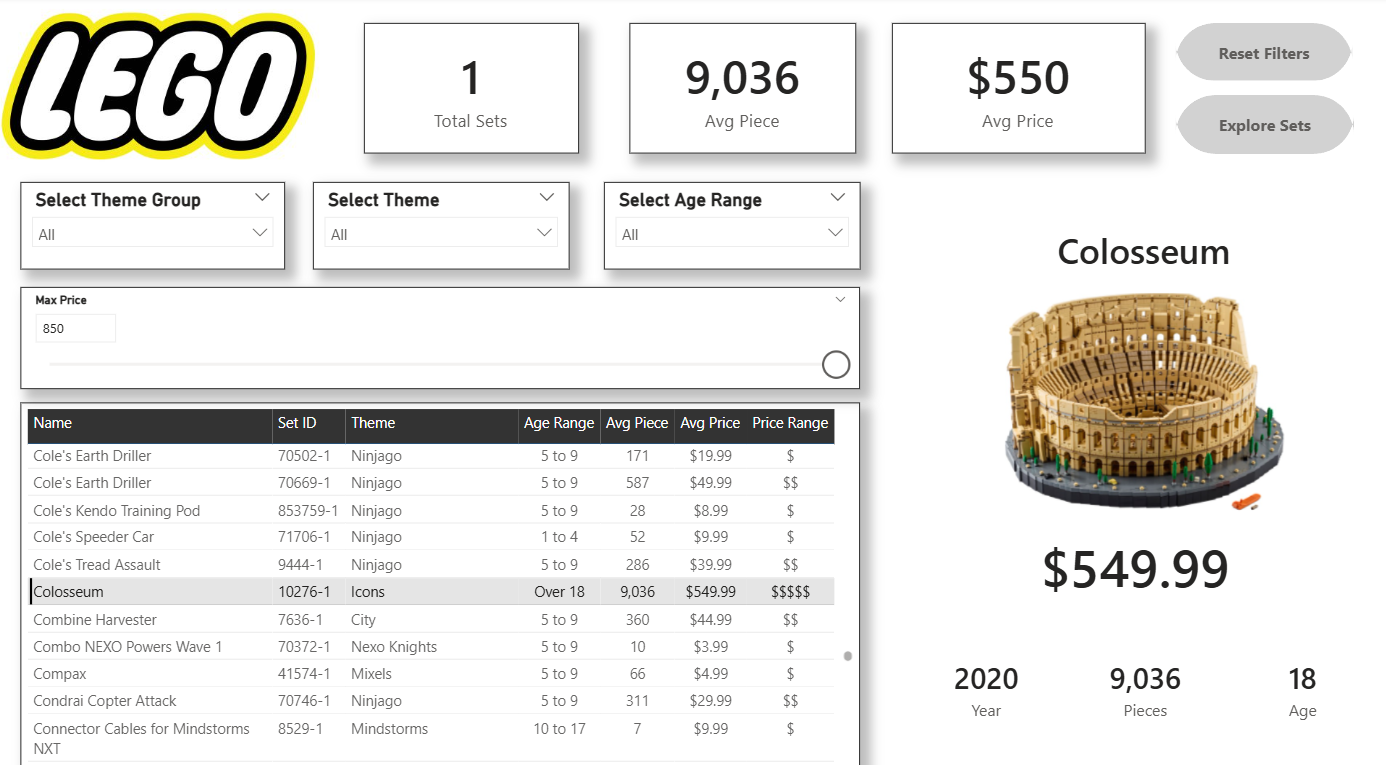

Layout of this report page (visuals, bound fields, positions):
{"tool":"powerbi","page":{"name":"LEGO Set Finder","canvas":[1280,720],"ordinal":0},"visuals":[{"type":"cardVisual","fields":{"Data":["Measure Table.Total Sets"]},"box":[338.2,24.8,196.8,119.5],"z":0},{"type":"image","box":[0,0,299.2,170.2],"z":1000},{"type":"cardVisual","fields":{"Data":["Measure Table.Avg Piece"]},"box":[580.2,24.8,207,119.5],"z":2000},{"type":"cardVisual","fields":{"Data":["Measure Table.Avg Price"]},"box":[820.8,24.8,231.8,119.5],"z":3000},{"type":"slicer","fields":{"Values":["lego_sets.themeGroup"]},"box":[23.3,170.6,242,80.2],"z":4000},{"type":"slicer","fields":{"Values":["lego_sets.Age Range"]},"box":[556.9,170.6,234.7,80.2],"z":5000},{"type":"slicer","fields":{"Values":["lego_sets.theme"]},"box":[291.6,170.6,234.7,80.2],"z":6000},{"type":"tableEx","fields":{"Values":["lego_sets.name","lego_sets.set_id","lego_sets.theme","lego_sets.Age Range","Measure Table.Avg Piece","Measure Table.Avg Price","lego_sets.Price Range"]},"box":[22.7,372.5,767.7,346.8],"z":7000},{"type":"cardVisual","fields":{"Data":["Measure Table.Selected Set"]},"box":[838.9,196.8,425.5,69.7],"z":8000},{"type":"simpleImageEBC4593F96F1425FB3D84C5BF02B5075","fields":{"imageURL":["lego_sets.imageURL"]},"box":[838.9,266.5,425.5,209],"z":9000},{"type":"cardVisual","fields":{"Data":["Measure Table.Selected Price"]},"box":[926.7,475.5,234.7,90.9],"z":10000},{"type":"cardVisual","fields":{"Data":["Measure Table.Selected Year"]},"box":[838.9,584.5,137.8,99.9],"z":11000},{"type":"cardVisual","fields":{"Data":["Measure Table.Selected Pieces"]},"box":[984.2,584.5,137.8,99.9],"z":12000},{"type":"cardVisual","fields":{"Data":["Measure Table.Selected Age"]},"box":[1129.6,584.5,134.8,99.9],"z":13000},{"type":"slicer","fields":{"Values":["Max Price.Max Price"]},"box":[23.3,266.8,768.3,93.3],"z":14000},{"type":"actionButton","box":[1079.6,24.2,162,53],"z":15000},{"type":"actionButton","box":[1080.3,90.4,163.3,53.9],"z":16000}]}

Visuals, with their boxes in screenshot pixels (x1, y1, x2, y2), scaled from the page's 1280x720 canvas onto the 1386x765 screenshot:
cardVisual - Measure Table.Total Sets: left=366, top=26, right=579, bottom=153
image: left=0, top=0, right=324, bottom=181
cardVisual - Measure Table.Avg Piece: left=628, top=26, right=852, bottom=153
cardVisual - Measure Table.Avg Price: left=889, top=26, right=1140, bottom=153
slicer - lego_sets.themeGroup: left=25, top=181, right=287, bottom=266
slicer - lego_sets.Age Range: left=603, top=181, right=857, bottom=266
slicer - lego_sets.theme: left=316, top=181, right=570, bottom=266
tableEx - lego_sets.name x lego_sets.set_id: left=25, top=396, right=856, bottom=764
cardVisual - Measure Table.Selected Set: left=908, top=209, right=1369, bottom=283
simpleImageEBC4593F96F1425FB3D84C5BF02B5075 - lego_sets.imageURL: left=908, top=283, right=1369, bottom=505
cardVisual - Measure Table.Selected Price: left=1003, top=505, right=1258, bottom=602
cardVisual - Measure Table.Selected Year: left=908, top=621, right=1058, bottom=727
cardVisual - Measure Table.Selected Pieces: left=1066, top=621, right=1215, bottom=727
cardVisual - Measure Table.Selected Age: left=1223, top=621, right=1369, bottom=727
slicer - Max Price.Max Price: left=25, top=283, right=857, bottom=383
actionButton: left=1169, top=26, right=1344, bottom=82
actionButton: left=1170, top=96, right=1347, bottom=153
